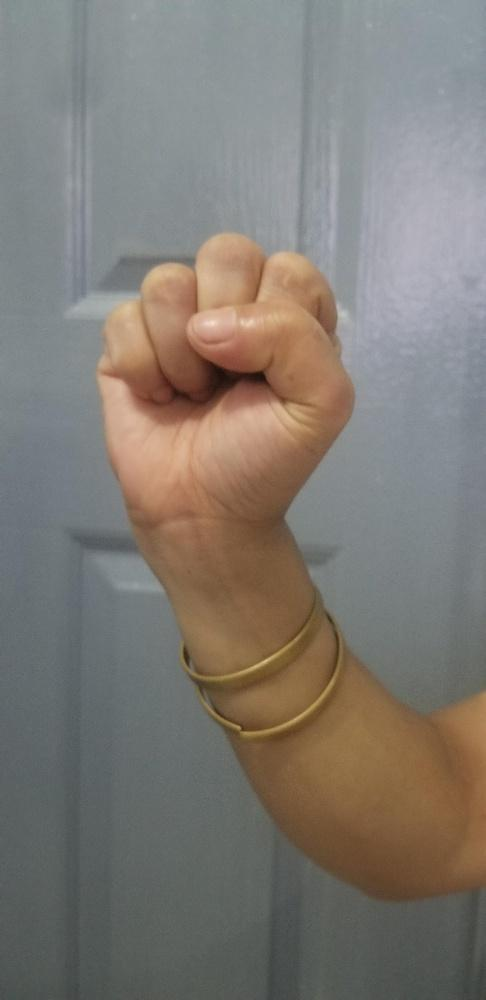s: (91, 230, 357, 526)
